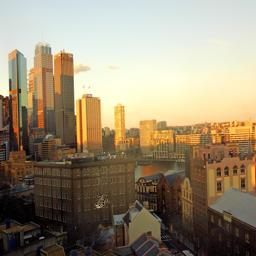Sparrow: (95, 194, 110, 208)
